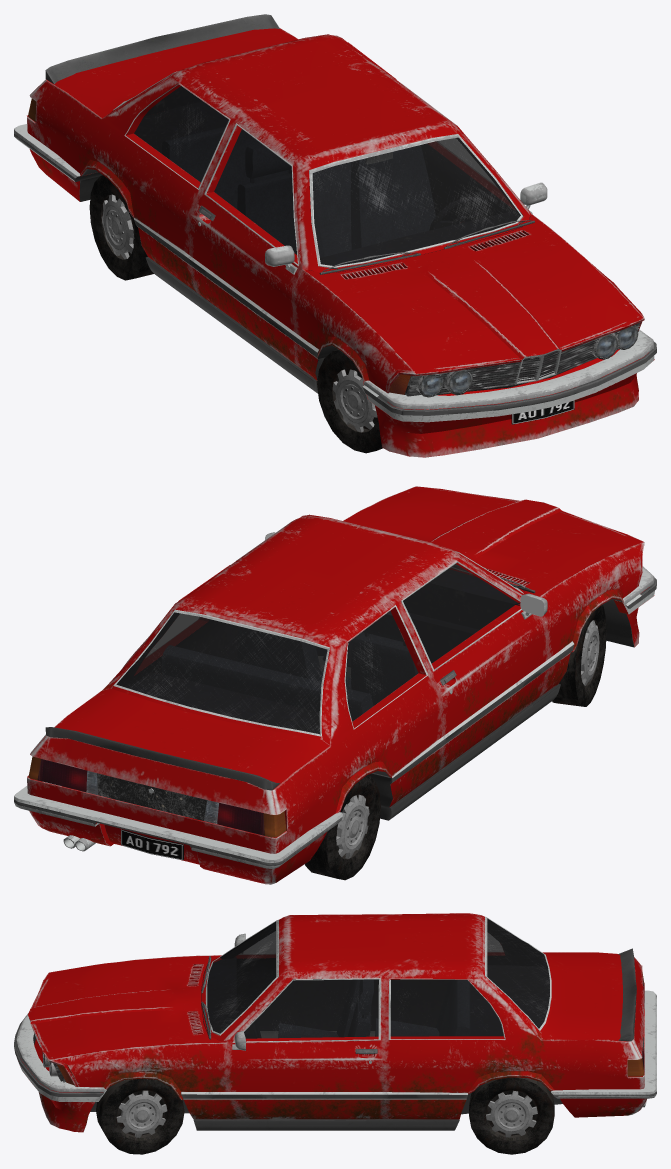
3 views of the same model, one above another, from view 1: azimuth 30°, elevation 25°; view 2: azimuth 150°, elevation 25°; view 3: azimuth 270°, elevation 25° (orthographic). The views are drawn at different scales.
Visible parts, largest first — view 1: Object_7, Object_8, Object_6, Object_2, Object_4, Object_11, Object_13, Object_9, Object_10, Object_12, Object_5; view 2: Object_7, Object_8, Object_11, Object_6, Object_2, Object_4, Object_13, Object_12, Object_9, Object_10, Object_5; view 3: Object_7, Object_8, Object_11, Object_2, Object_13, Object_4, Object_6, Object_10, Object_12.
Boxes of the visible parts, x1,y1,x2,y2 form: Object_7: (27,28,654,457); Object_8: (127,86,520,266); Object_6: (161,126,435,305); Object_2: (14,43,654,422); Object_4: (14,14,656,457); Object_11: (134,86,530,376); Object_13: (89,175,382,453); Object_9: (404,322,641,397); Object_10: (101,194,377,432); Object_12: (28,98,637,396); Object_5: (511,400,574,424); Object_7: (27,486,654,884); Object_8: (116,564,517,733); Object_11: (117,569,527,733); Object_6: (162,611,430,807); Object_2: (14,502,654,868); Object_4: (14,530,656,884); Object_13: (305,605,606,880); Object_12: (28,756,286,837); Object_9: (97,500,516,820); Object_10: (336,620,599,858); Object_5: (121,829,183,860); Object_7: (21,913,646,1132); Object_8: (207,918,549,1038); Object_11: (201,919,549,1038); Object_2: (16,916,656,1107); Object_13: (96,1077,554,1154); Object_4: (14,948,656,1131); Object_6: (278,980,470,1040); Object_10: (116,1090,537,1137); Object_12: (42,972,644,1085).
Bounding box in the file's own units: 2.62 × 1.93 × 6.67.
12 materials, 11 textured.
